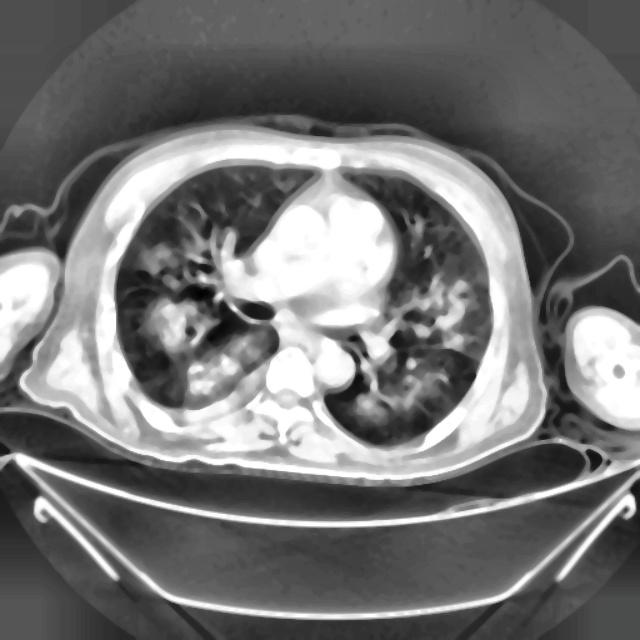covid: (8, 114, 557, 487)
